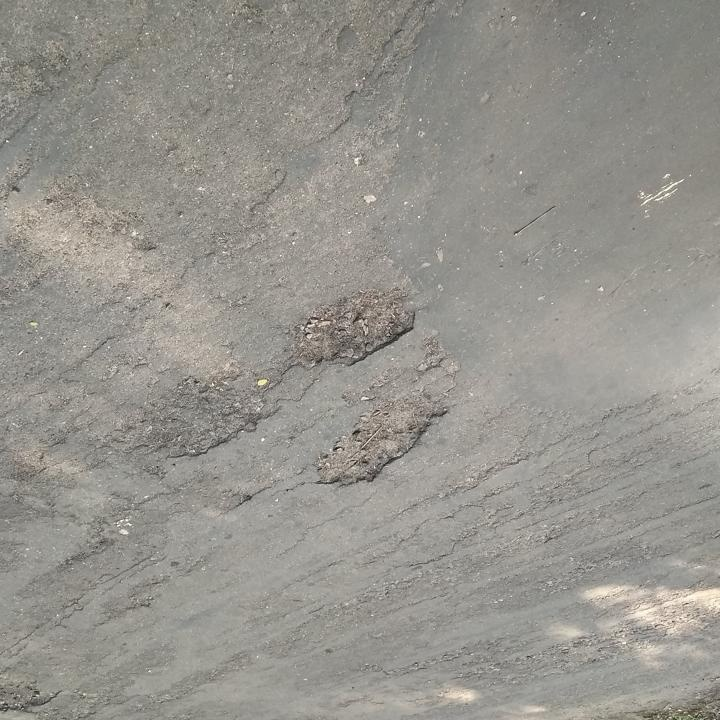pothole: (309, 390, 454, 493), (131, 369, 288, 462), (290, 283, 422, 373)
